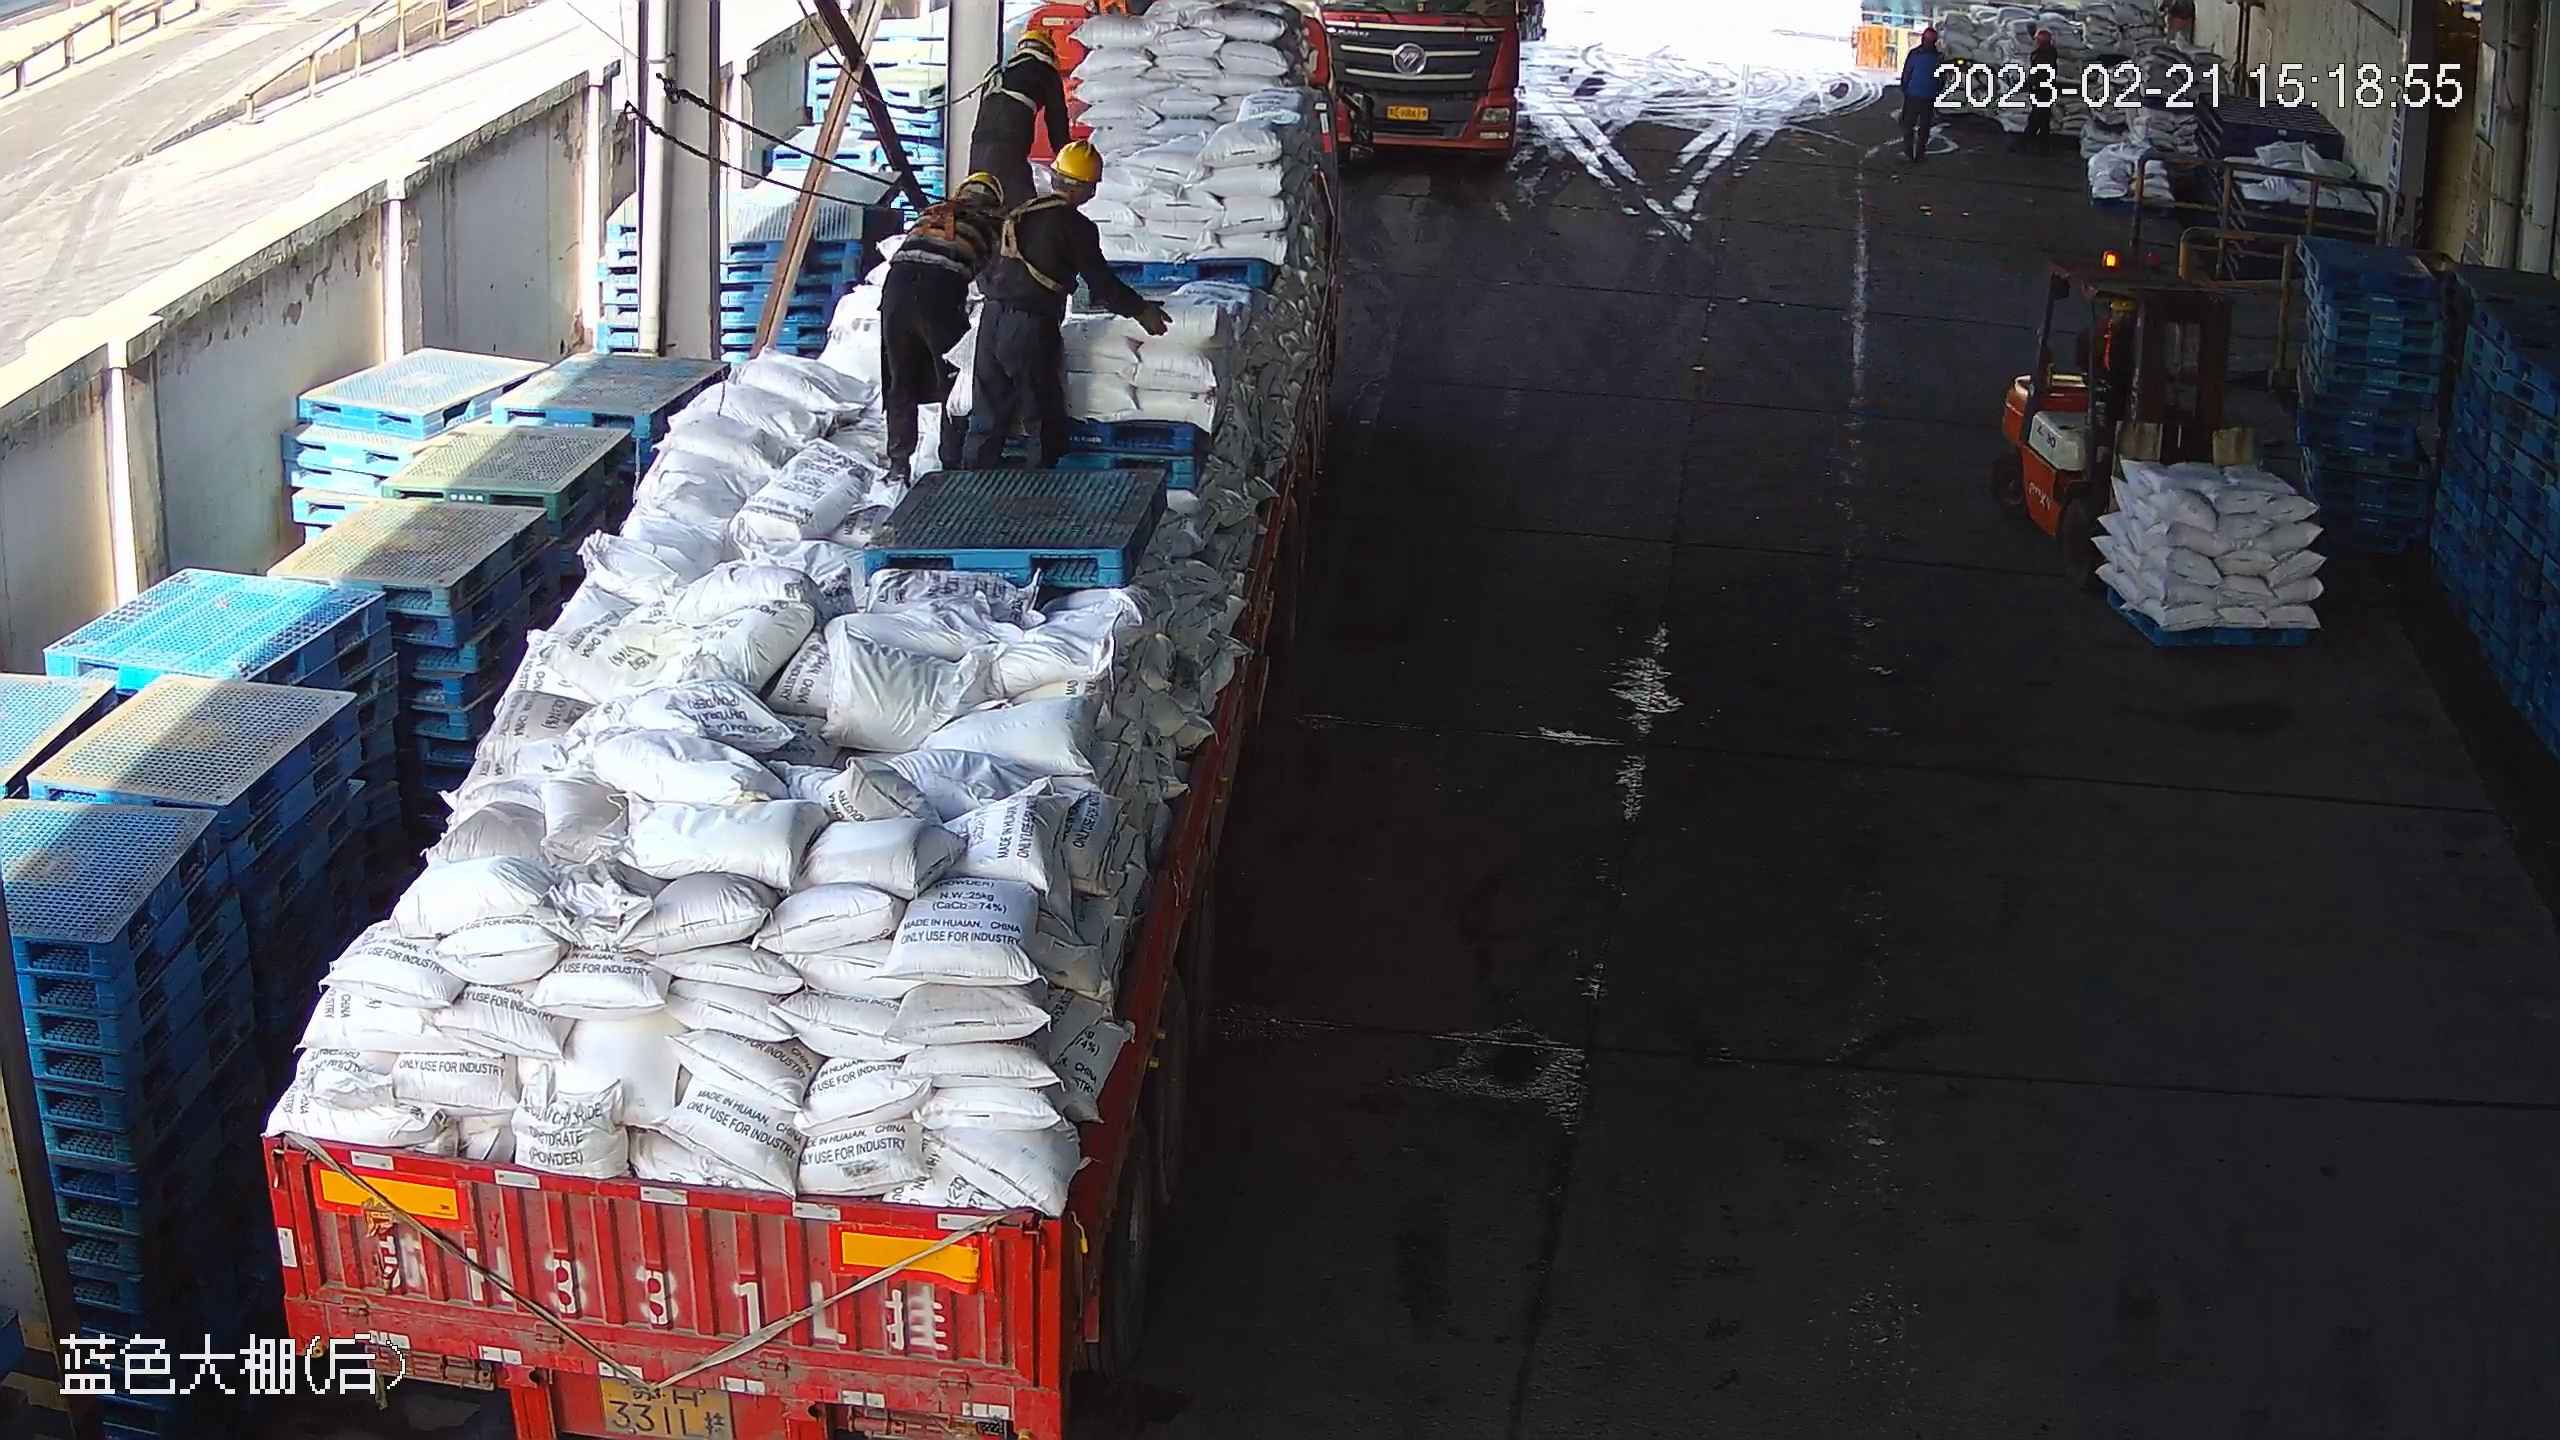belt: (1002, 199, 1082, 286), (903, 184, 972, 249), (981, 46, 1045, 108)
head: (1010, 137, 1107, 255), (903, 168, 1002, 249), (988, 34, 1079, 107)
helmet: (1050, 138, 1116, 184), (1012, 23, 1057, 57)
people: (953, 139, 1114, 477), (878, 164, 1000, 486), (968, 25, 1066, 197)
truck: (264, 1, 1346, 1440), (1320, 3, 1542, 179)
